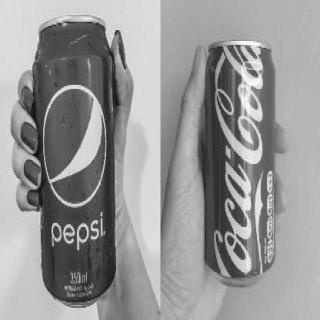alumunium_can: (31, 13, 118, 307), (202, 37, 278, 285)
